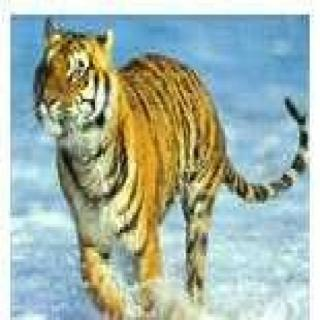Tiger: (25, 6, 310, 318)
